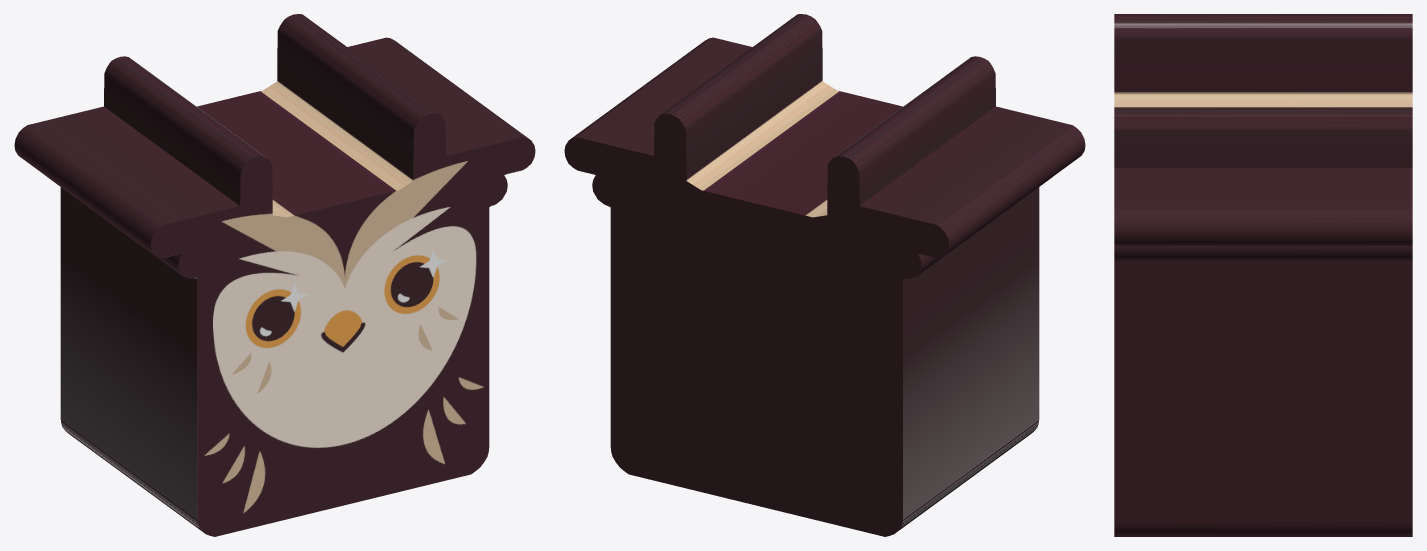
Rendered from Owl.fbx.
3 views of the same model, side by side, from view 1: azimuth 30°, elevation 25°; view 2: azimuth 150°, elevation 25°; view 3: azimuth 270°, elevation 25° (orthographic). The views are drawn at different scales.
Parts seen in each view (by area): view 1: owl; view 2: owl; view 3: owl.
Boxes of the visible parts, box(x1,y1,x2,y2) form: owl: box(14, 14, 535, 536); owl: box(564, 14, 1085, 536); owl: box(1114, 14, 1412, 536).
Size of the model in its own units: 7.15 by 6.57 by 4.38.
1 material, 1 textured.
